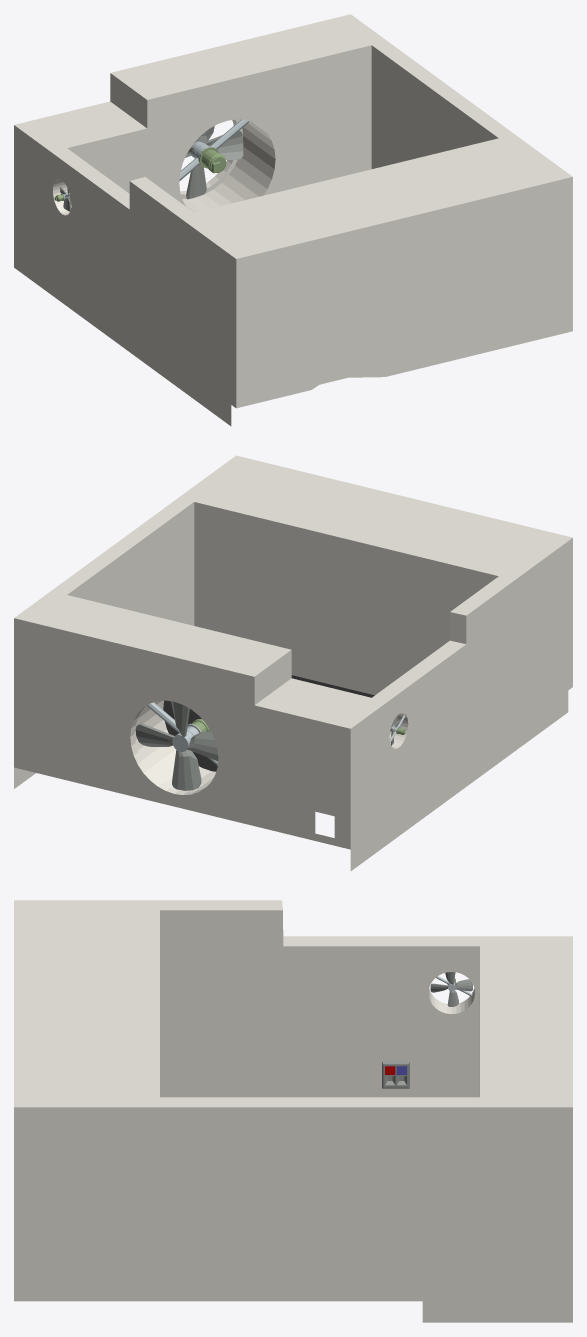
Rendered from FanRoom.fbx.
The picture shows the model from 3 angles, top to bottom: view 1: azimuth 30°, elevation 25°; view 2: azimuth 150°, elevation 25°; view 3: azimuth 270°, elevation 25°; orthographic projection. The views are drawn at different scales.
Visible parts, largest first — view 1: FanTunnel, Fan.003, FanMotorBlock, FanTunnel.001, Fan.004; view 2: FanTunnel, Fan.004, Fan.003, Fan.002; view 3: FanTunnel, PowerOutletA.
Part boxes in pixels (box(x1,y1,x2,y2)): FanTunnel: box(14, 14, 572, 426); Fan.003: box(205, 130, 243, 159); FanMotorBlock: box(198, 146, 226, 173); FanTunnel.001: box(179, 119, 248, 181); Fan.004: box(186, 164, 206, 199); FanTunnel: box(14, 455, 572, 870); Fan.004: box(172, 749, 201, 790); Fan.003: box(135, 723, 174, 746); Fan.002: box(187, 731, 218, 760); FanTunnel: box(14, 900, 572, 1322); PowerOutletA: box(382, 1061, 409, 1088).
Size of the model in its own units: 21.39 by 10.2 by 24.
1 material, 1 textured.
